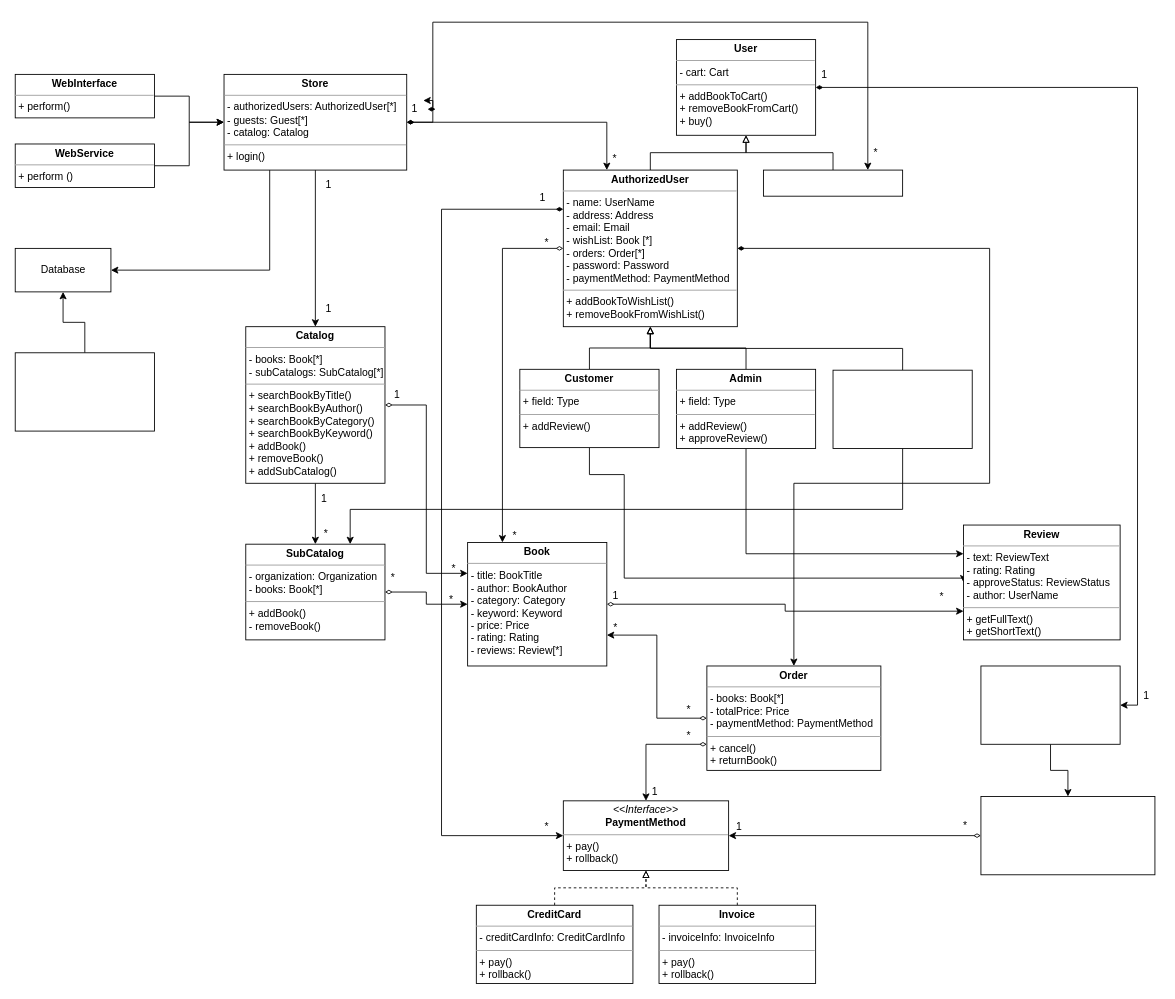
Image size: 1175x999. Some labels were removed from this diagram. Each missing label, with the centre of its shape:
"Cart - books: Book[*] - totalPrice: Price + pay()" belongs at point 1050,704.
"Guest" belongs at point 833,182.
"MiniCatalog - books: Book[*] + loadFromDatabase() + getXML()" belongs at point 84,391.
"Payment - paymentMethod: PaymentMethod + pay() + rollback()" belongs at point 1067,835.
"Seller -organization: Organization + addSubCatalog()" belongs at point 902,408.
